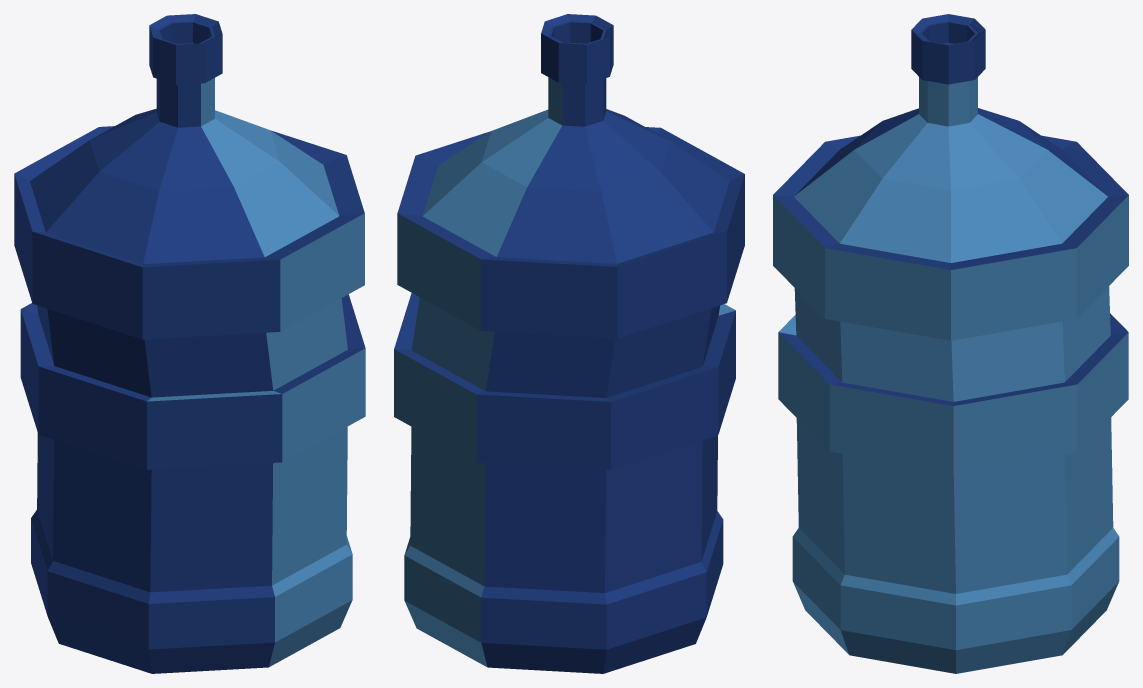
The model's file is water_can_low_poly.glb.
3 views of the same model, side by side, from view 1: azimuth 30°, elevation 25°; view 2: azimuth 150°, elevation 25°; view 3: azimuth 270°, elevation 25° (orthographic).
Parts seen in each view (by area): view 1: Circle; view 2: Circle; view 3: Circle.
Part boxes in pixels (box(x1,y1,x2,y2)): Circle: box(14, 14, 365, 673); Circle: box(394, 14, 744, 673); Circle: box(773, 14, 1128, 673).
Size of the model in its own units: 2.38 by 4.21 by 2.36.
